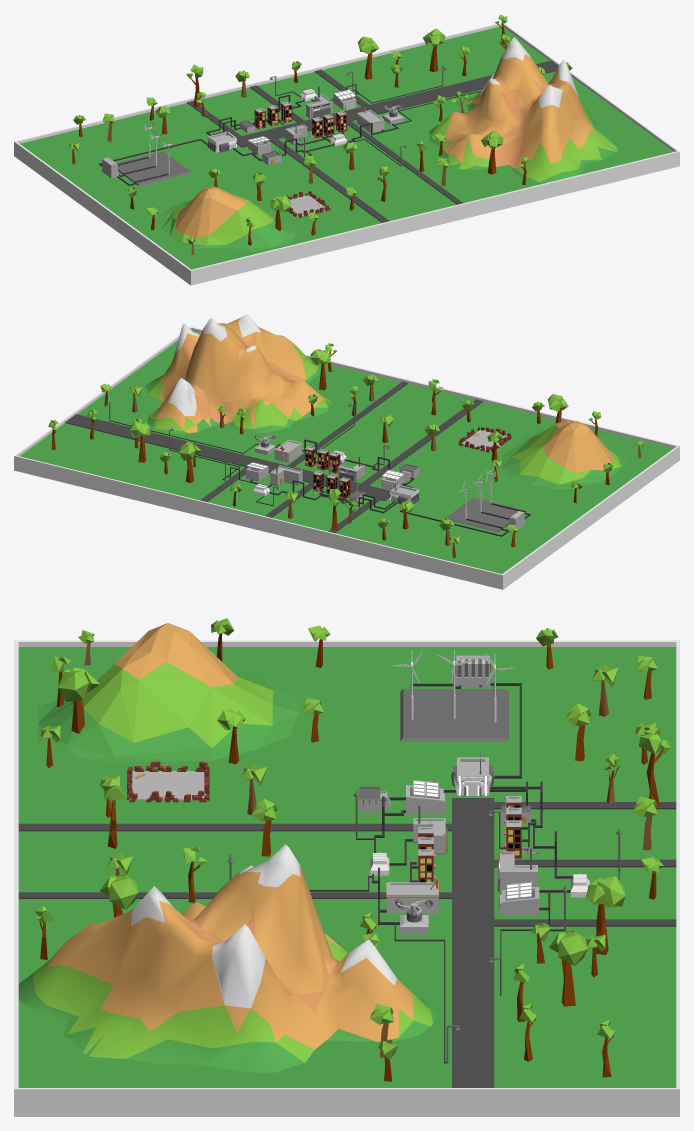
The model's file is old.glb.
3 renders of one model, top to bottom at view 1: azimuth 30°, elevation 25°; view 2: azimuth 150°, elevation 25°; view 3: azimuth 270°, elevation 25°, orthographic. The views are drawn at different scales.
Parts seen in each view (by area): view 1: Дорога, Декорации, Провода, Жилые Дома, Подстанции, Завод, Генераторы, Станция, Больница; view 2: Дорога, Декорации, Провода, Жилые Дома, Завод, Подстанции, Генераторы, Больница, Станция; view 3: Дорога, Декорации, Провода, Подстанции, Генераторы, Жилые Дома, Завод, Станция, Больница, Фонари.
Boxes of the visible parts, <box> form: Дорога: <box>14,22,679,285</box>; Декорации: <box>68,14,618,254</box>; Провода: <box>99,84,480,185</box>; Жилые Дома: <box>254,101,347,139</box>; Подстанции: <box>102,89,347,178</box>; Завод: <box>285,86,332,144</box>; Генераторы: <box>247,89,356,155</box>; Станция: <box>207,122,236,152</box>; Больница: <box>356,107,384,132</box>; Дорога: <box>14,326,679,589</box>; Декорации: <box>48,314,644,558</box>; Провода: <box>110,420,530,536</box>; Жилые Дома: <box>305,446,350,498</box>; Завод: <box>270,456,364,486</box>; Подстанции: <box>252,450,524,529</box>; Генераторы: <box>245,462,404,489</box>; Больница: <box>274,439,302,462</box>; Станция: <box>390,478,419,504</box>; Дорога: <box>14,640,679,1116</box>; Декорации: <box>18,618,670,1081</box>; Провода: <box>309,683,619,1063</box>; Подстанции: <box>358,655,589,897</box>; Генераторы: <box>406,780,539,915</box>; Жилые Дома: <box>418,796,540,882</box>; Завод: <box>413,806,537,893</box>; Станция: <box>451,751,494,795</box>; Больница: <box>386,879,438,913</box>; Фонари: <box>228,790,621,1063</box>.
Bounding box in the file's own units: 282 × 54.44 × 177.
